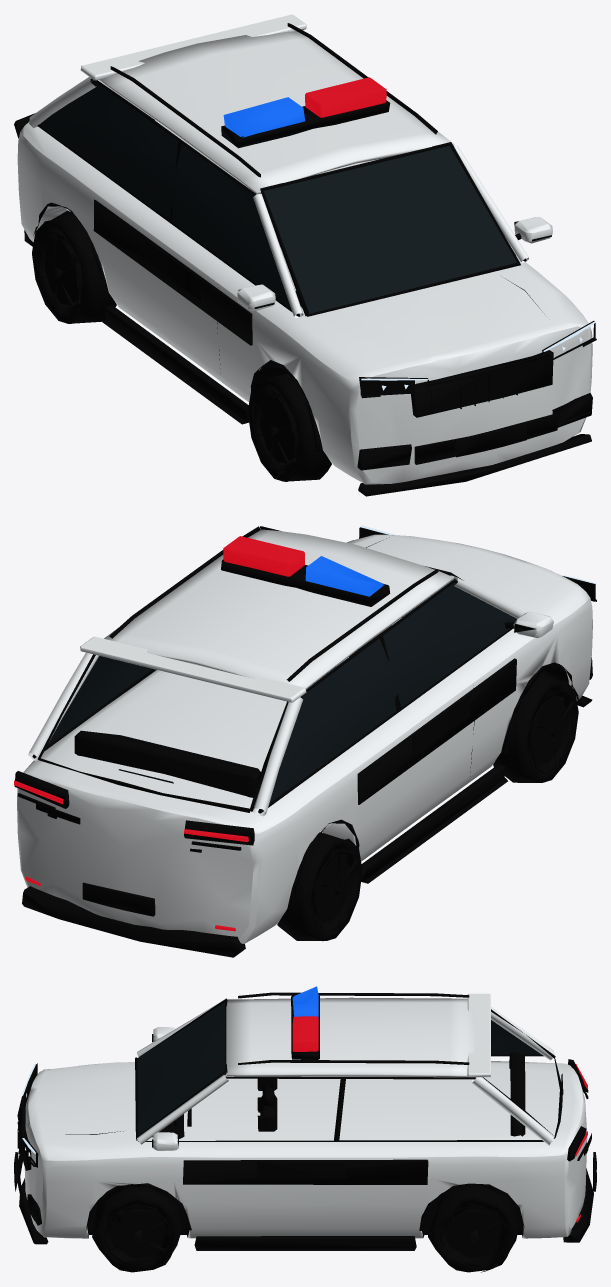
Rendered from police-far.glb.
3 views of the same model, one above another, from view 1: azimuth 30°, elevation 25°; view 2: azimuth 150°, elevation 25°; view 3: azimuth 270°, elevation 25° (orthographic). The views are drawn at different scales.
Parts seen in each view (by area): view 1: chassis.001__Automotive clearcoat, chassis.001__Solar glass, chassis.001__Vehicle detail atlas, wheel_RL.001__Vehicle detail atlas, wheel_FL.001__Vehicle detail atlas, chassis.001__Red LED optics, chassis.001__Police blue LED; view 2: chassis.001__Automotive clearcoat, chassis.001__Vehicle detail atlas, chassis.001__Solar glass, wheel_FL.001__Vehicle detail atlas, wheel_RL.001__Vehicle detail atlas, chassis.001__Red LED optics, chassis.001__Police blue LED; view 3: chassis.001__Automotive clearcoat, chassis.001__Vehicle detail atlas, chassis.001__Solar glass, wheel_RR.001__Vehicle detail atlas, wheel_FR.001__Vehicle detail atlas, chassis.001__Red LED optics, chassis.001__Police blue LED.
Part boxes in pixels (<box>): chassis.001__Automotive clearcoat: <box>17,14,592,484</box>; chassis.001__Solar glass: <box>40,82,516,313</box>; chassis.001__Vehicle detail atlas: <box>14,23,595,496</box>; wheel_RL.001__Vehicle detail atlas: <box>32,210,116,323</box>; wheel_FL.001__Vehicle detail atlas: <box>247,374,331,481</box>; chassis.001__Red LED optics: <box>305,77,386,117</box>; chassis.001__Police blue LED: <box>223,97,305,137</box>; chassis.001__Automotive clearcoat: <box>17,529,592,943</box>; chassis.001__Vehicle detail atlas: <box>14,526,595,957</box>; chassis.001__Solar glass: <box>47,582,516,803</box>; wheel_FL.001__Vehicle detail atlas: <box>493,670,579,782</box>; wheel_RL.001__Vehicle detail atlas: <box>277,832,362,941</box>; chassis.001__Red LED optics: <box>14,536,304,931</box>; chassis.001__Police blue LED: <box>305,556,384,596</box>; chassis.001__Automotive clearcoat: <box>24,993,587,1238</box>; chassis.001__Vehicle detail atlas: <box>14,992,596,1250</box>; chassis.001__Solar glass: <box>137,1002,541,1135</box>; wheel_RR.001__Vehicle detail atlas: <box>428,1184,519,1272</box>; wheel_FR.001__Vehicle detail atlas: <box>92,1184,182,1272</box>; chassis.001__Red LED optics: <box>292,1016,587,1222</box>; chassis.001__Police blue LED: <box>292,986,318,1018</box>.
Bounding box in the file's own units: 2.17 × 1.85 × 4.63.
Materials: 9 (7 with a texture image).
